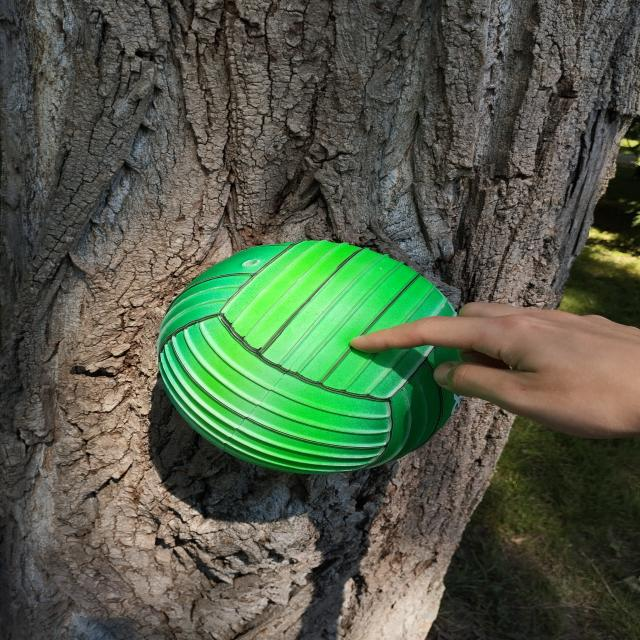zielona: (157, 240, 460, 472)
